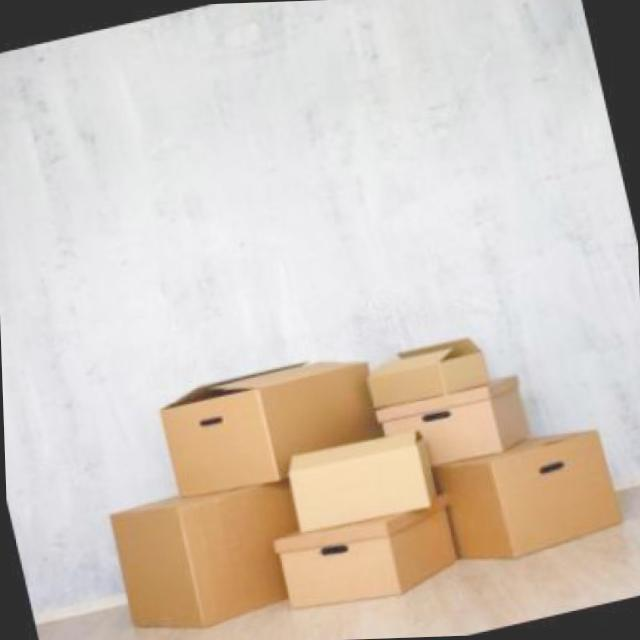box: (148, 346, 380, 511), (107, 467, 313, 640), (436, 424, 636, 568), (274, 502, 474, 640), (274, 420, 451, 534), (372, 368, 555, 470), (363, 321, 498, 402)
